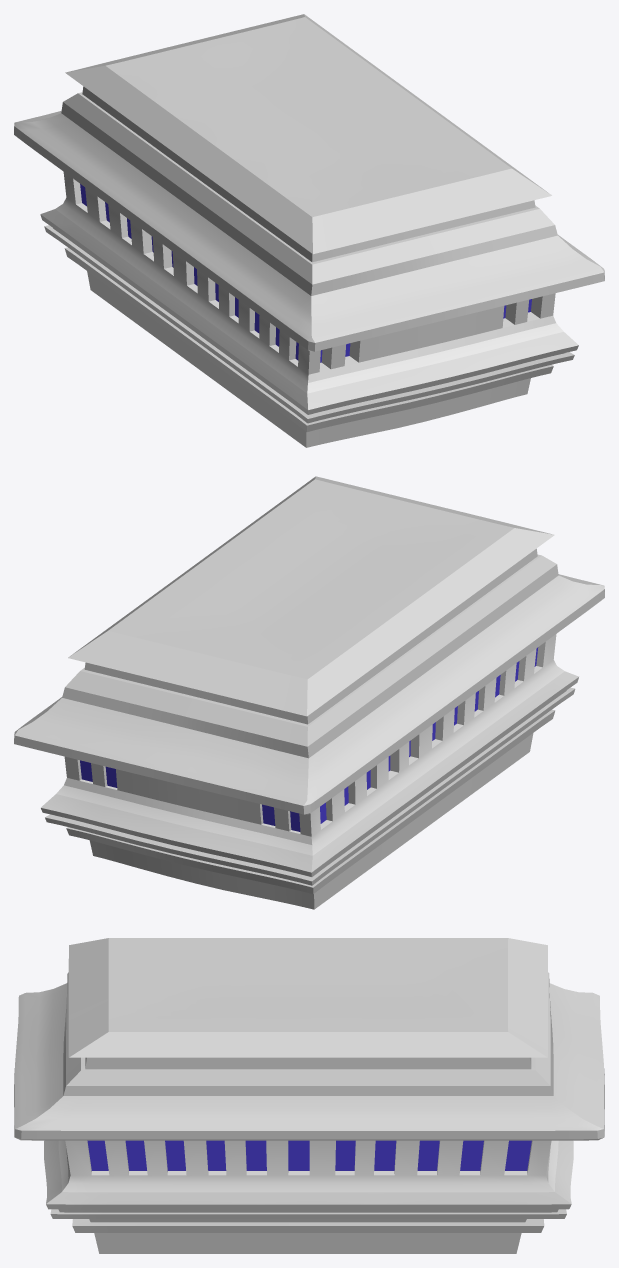
File: FBX_LC_mHouse7.fbx
3 renders of one model, top to bottom at view 1: azimuth 30°, elevation 25°; view 2: azimuth 150°, elevation 25°; view 3: azimuth 270°, elevation 25°, orthographic. The views are drawn at different scales.
Visible parts, largest first — view 1: Cube.035; view 2: Cube.035; view 3: Cube.035.
Boxes of the visible parts, box(x1,y1,x2,y2) form: Cube.035: box(14, 14, 604, 447); Cube.035: box(14, 476, 604, 909); Cube.035: box(14, 938, 604, 1253).
Size of the model in its own units: 1367 by 993 by 2452.
